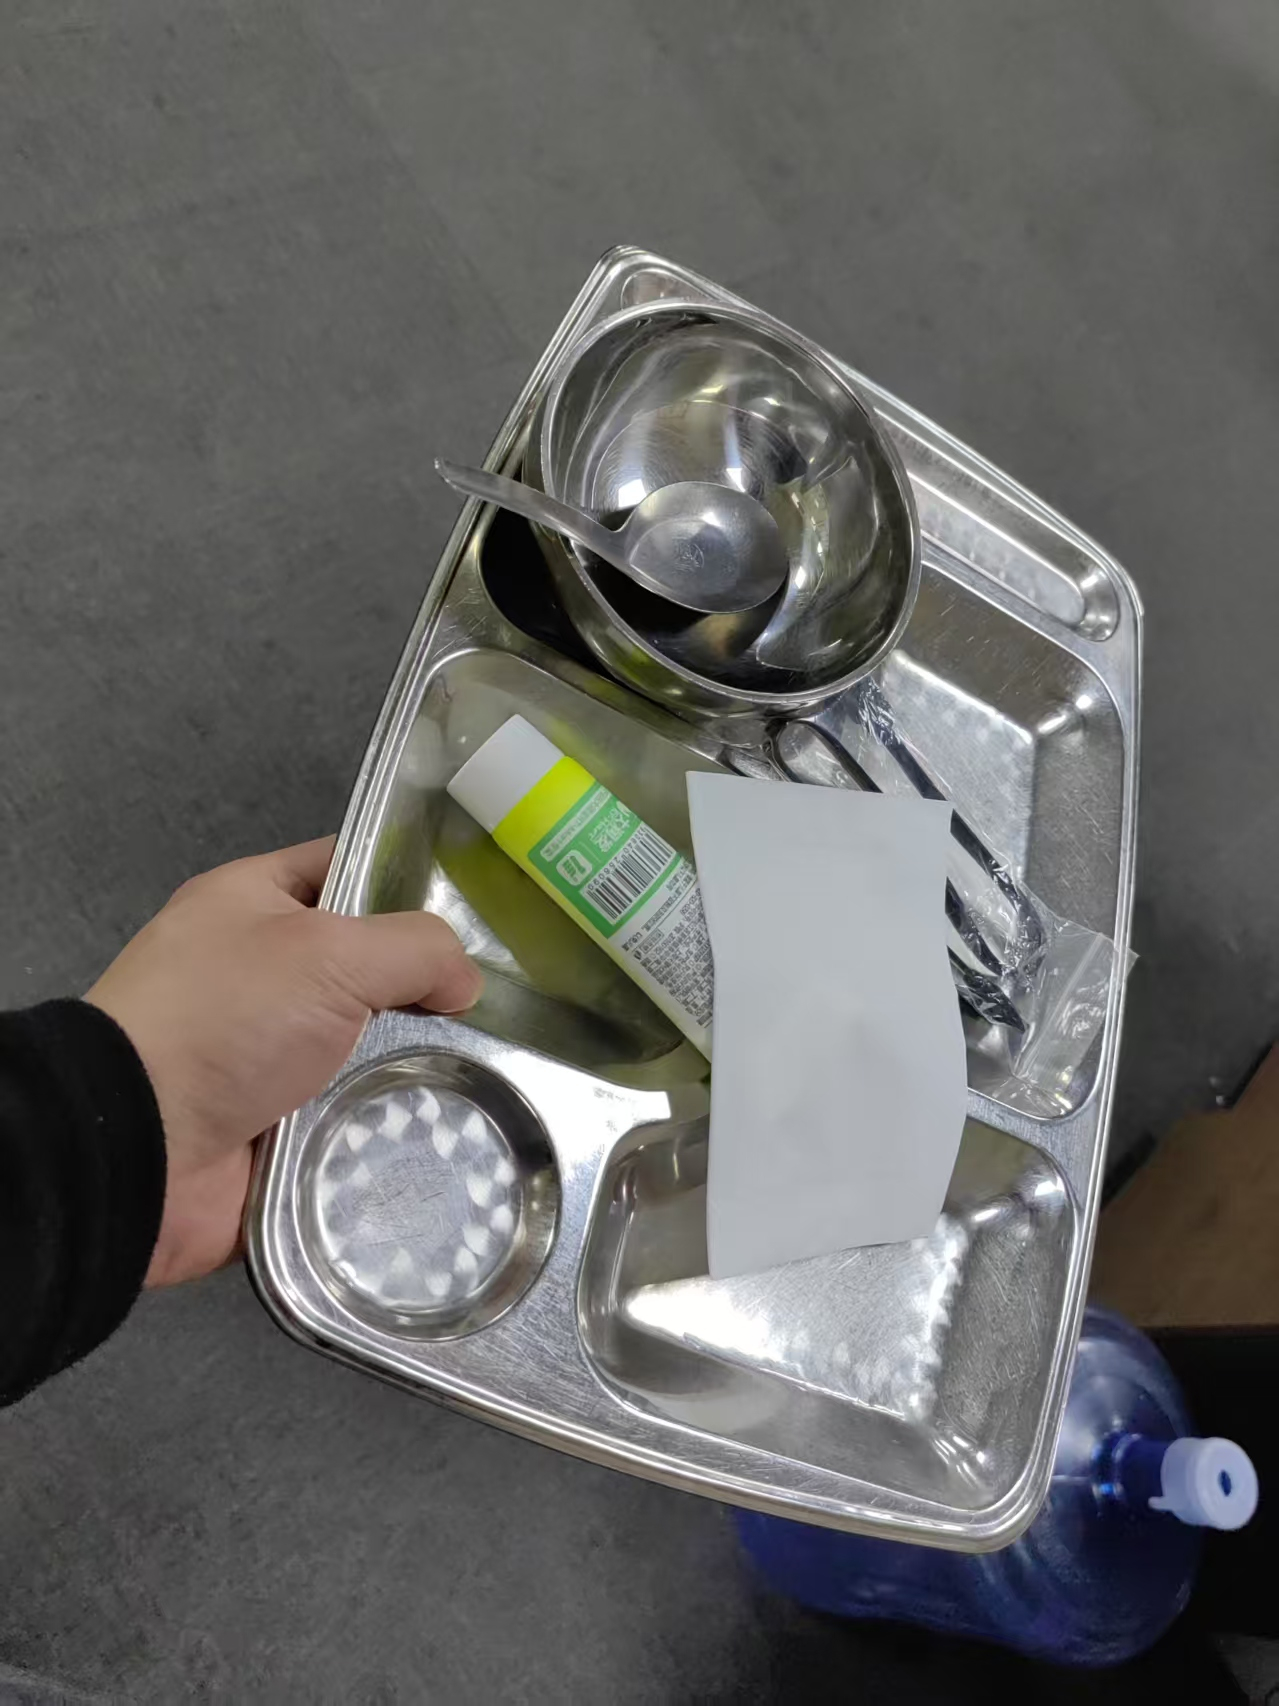mild: (446, 647, 1126, 1131)
plate: (244, 239, 1152, 1554)
tissue: (687, 770, 967, 1277)
